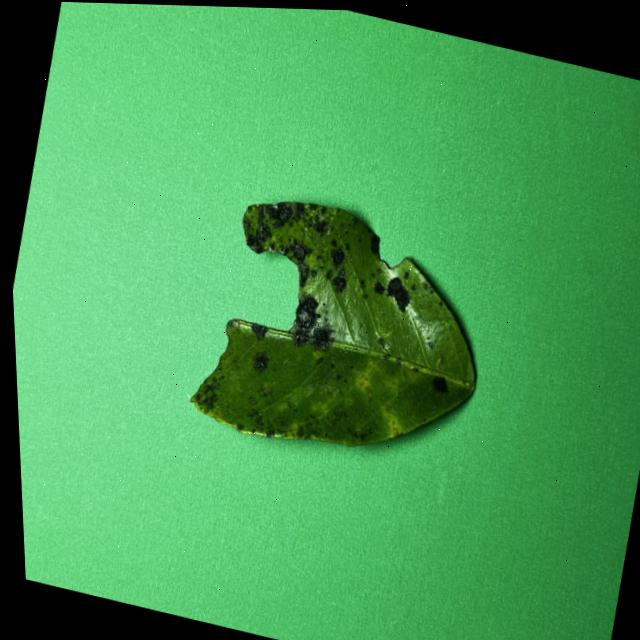sooty_mold: (191, 201, 475, 445)
